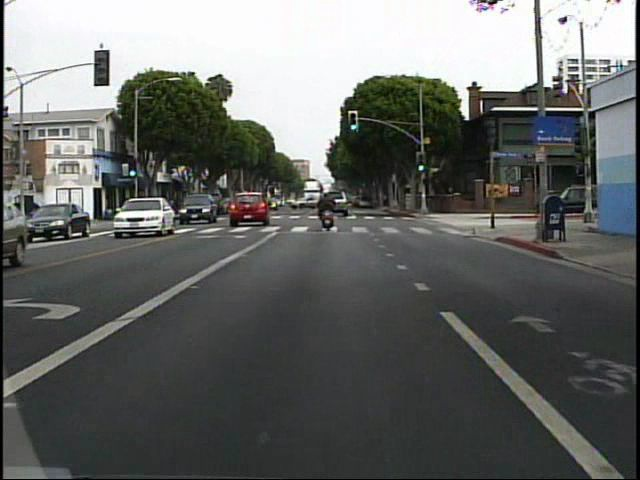person: (312, 186, 343, 239)
